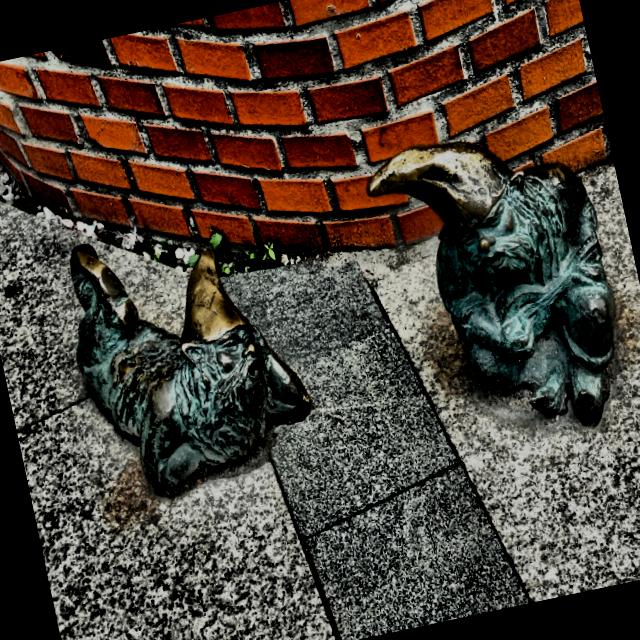Grajek_i_Meloman: (68, 141, 614, 494)
